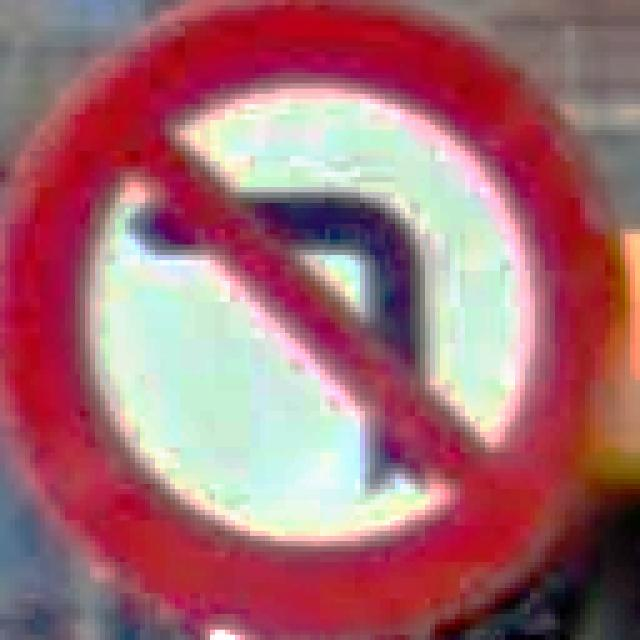noturnleft: (0, 0, 630, 635)
